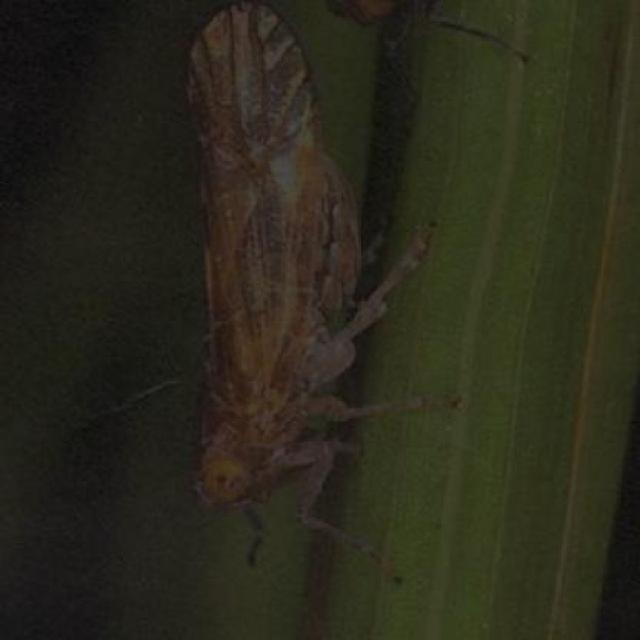brown-planthopper: (178, 7, 358, 513)
